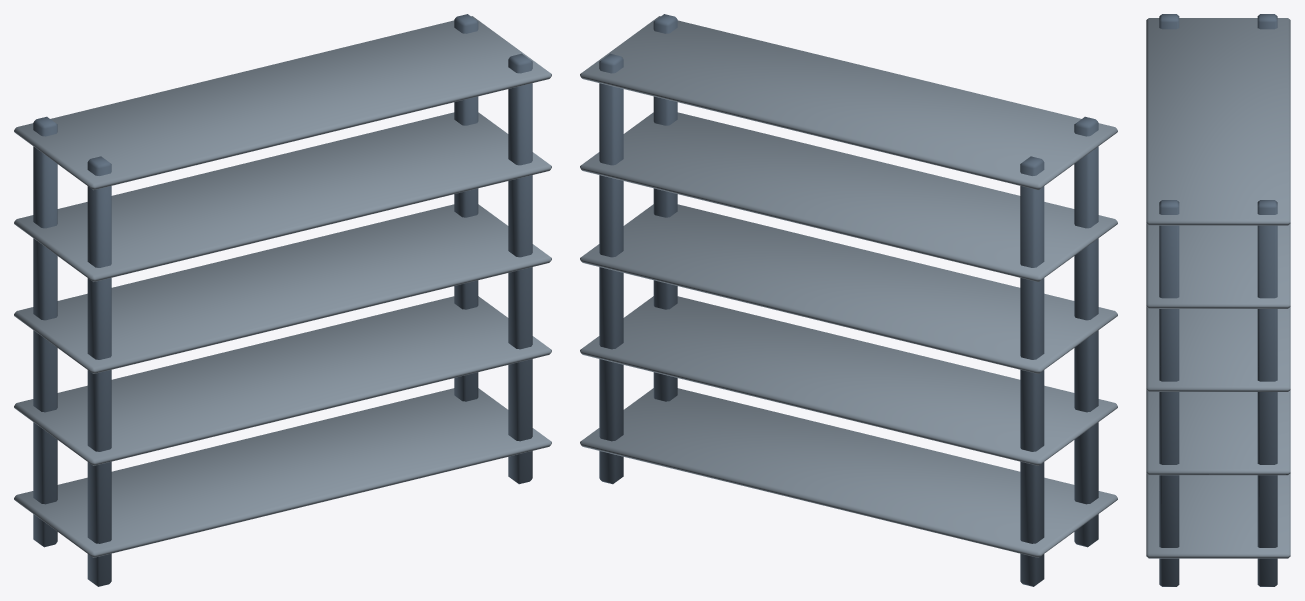
File: Shelf-1.fbx
3 renders of one model, left to right at view 1: azimuth 30°, elevation 25°; view 2: azimuth 150°, elevation 25°; view 3: azimuth 270°, elevation 25°, orthographic. The views are drawn at different scales.
Parts seen in each view (by area): view 1: Shelf-1; view 2: Shelf-1; view 3: Shelf-1.
Part boxes in pixels (box(x1,y1,x2,y2)): Shelf-1: box(14, 14, 551, 586); Shelf-1: box(580, 14, 1117, 586); Shelf-1: box(1146, 14, 1290, 586).
Bounding box in the file's own units: 2 × 1.75 × 0.6.
